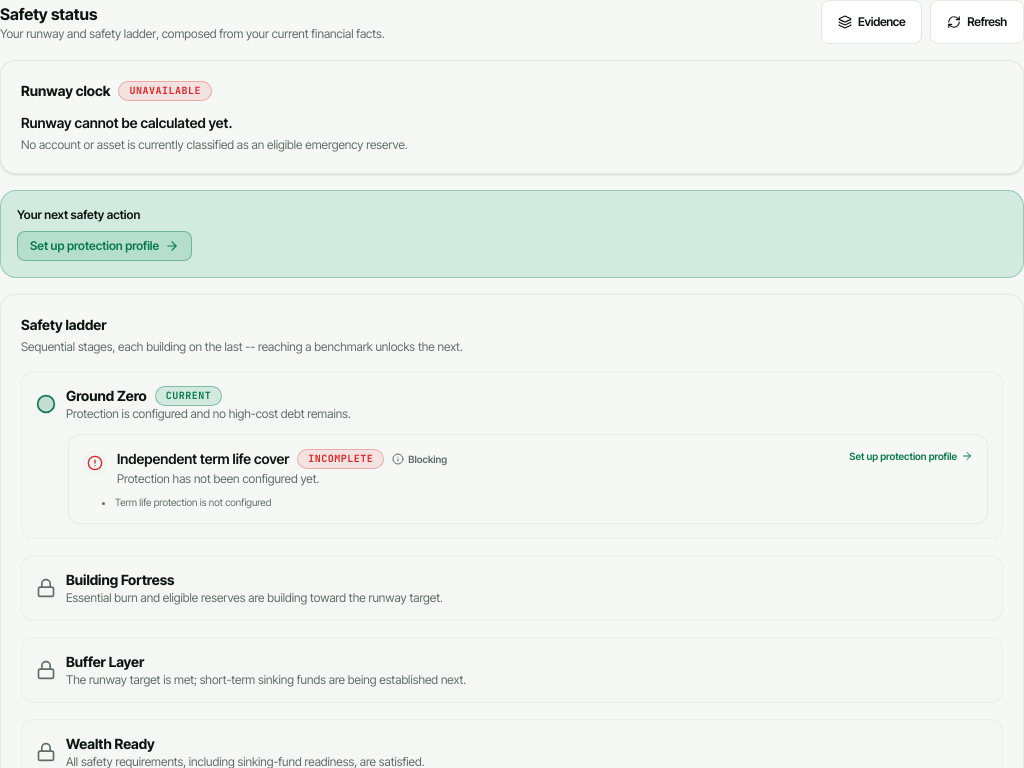
Test case: SafetyStatusPanel › opens the evidence drawer on demand
Click the button "Evidence" at (872,22), box [821,0,922,44]
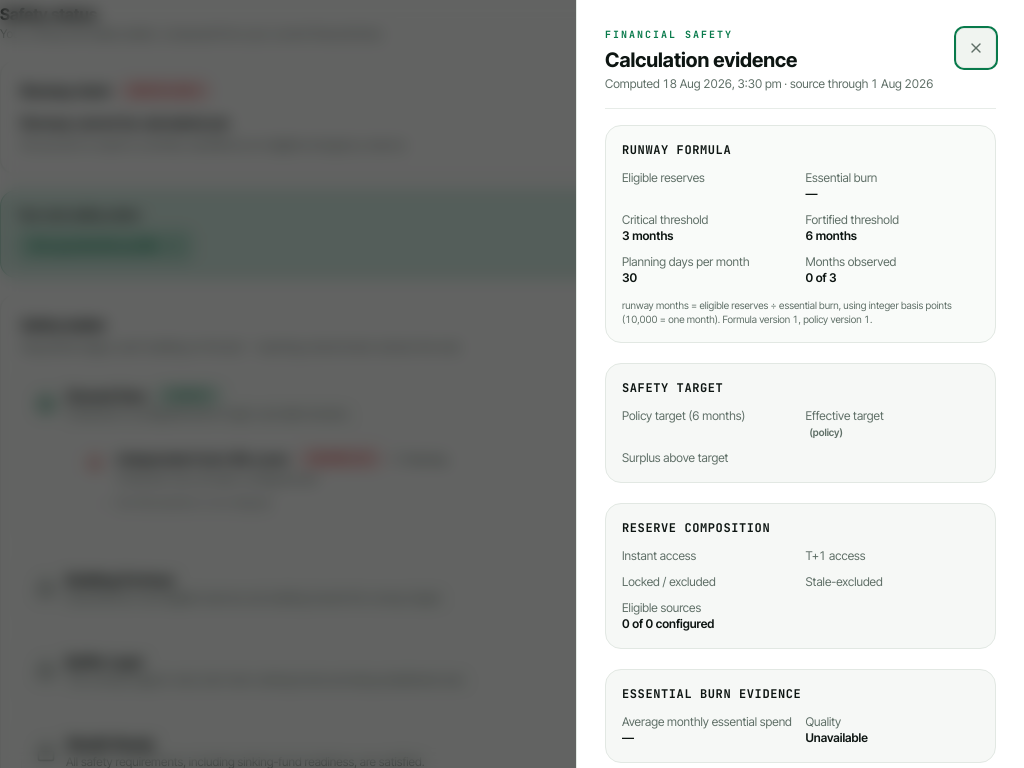
Now the dialog is shown, box [576,0,1023,767]
